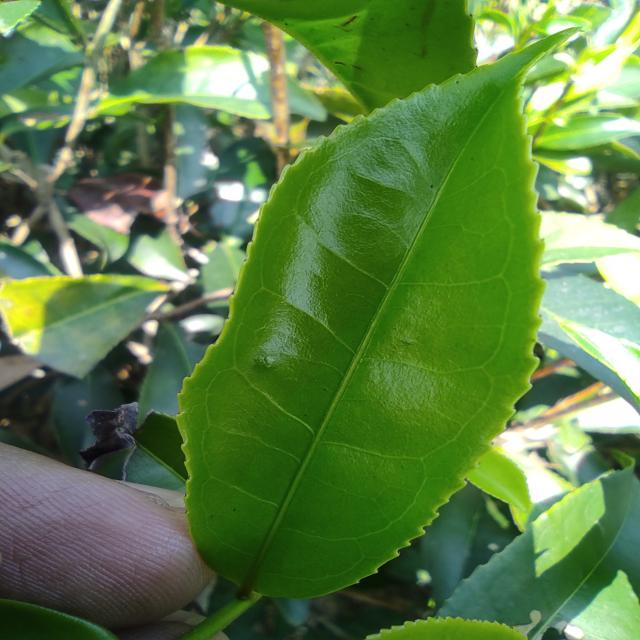Category C(4-7 days): (150, 17, 587, 640)
